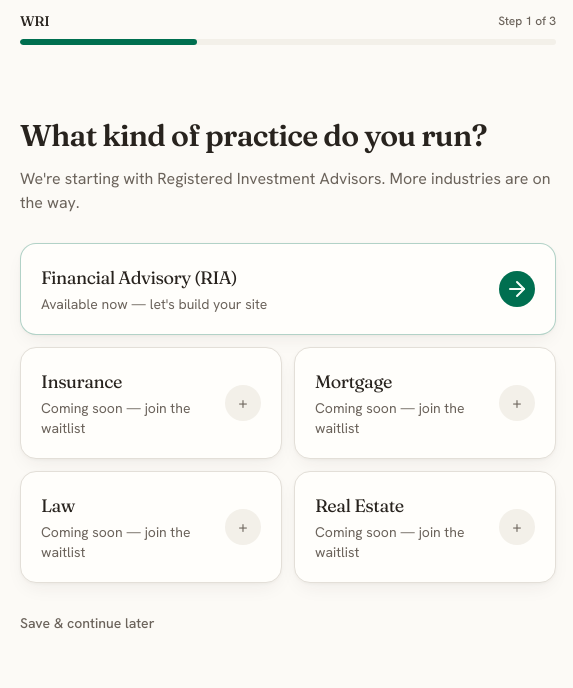
Test case: <OnboardingFlow /> › captures a waitlist email on a non-RIA card without leaving the flow
Click the button "Insurance Coming soon — join the waitlist +" at (151, 403), box [20,347,282,459]
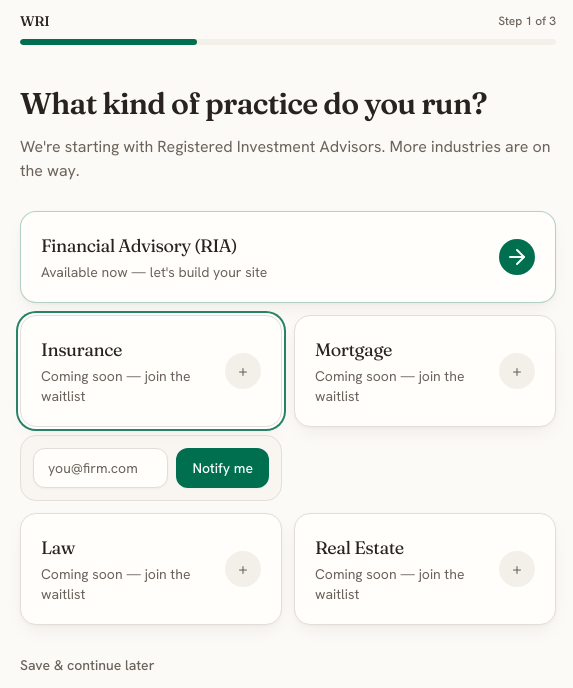
Type "advisor@firm.com" into the field named "email for the insurance waitlist" at (101, 468), box [33,448,168,488]
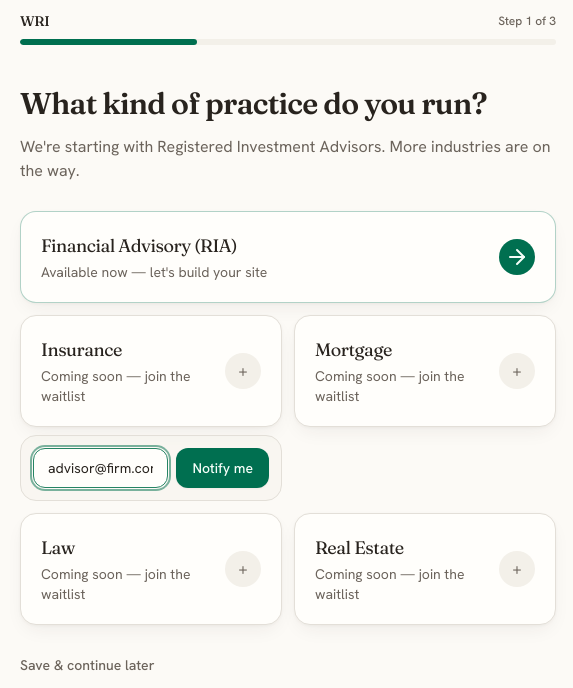
Click the button "Notify me" at (223, 468), box [176,448,269,488]
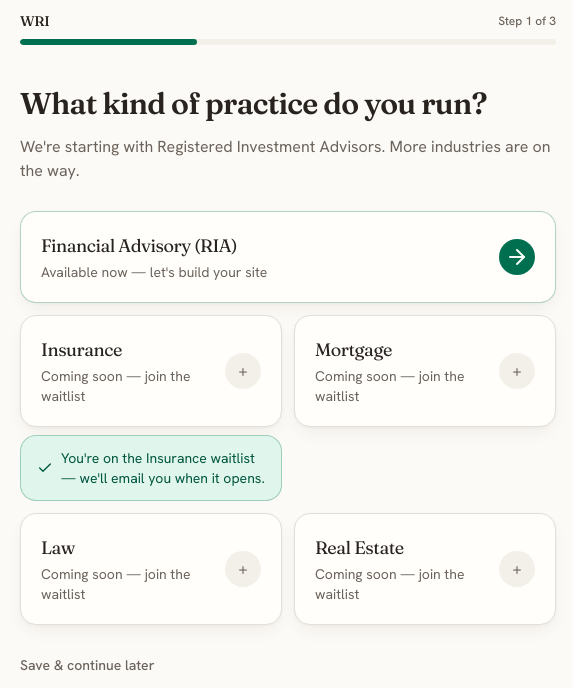
Check: the heading "What kind of practice do you run?" is shown, box [20,85,556,122]
Check: the text "You're on the Insurance waitlist" is shown, box [20,434,282,500]
